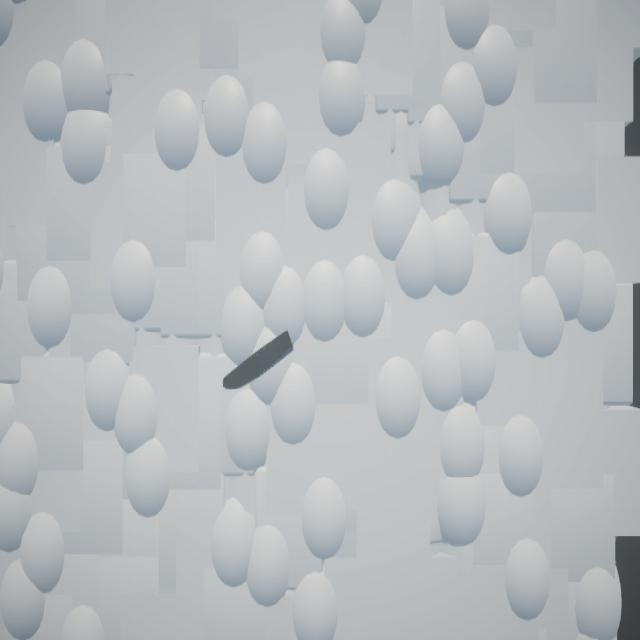top_knife: (223, 332, 295, 391)
